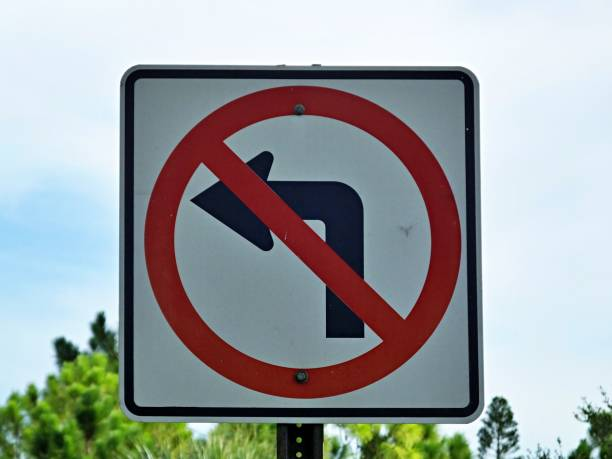sola_girilmez: (141, 86, 462, 391)
